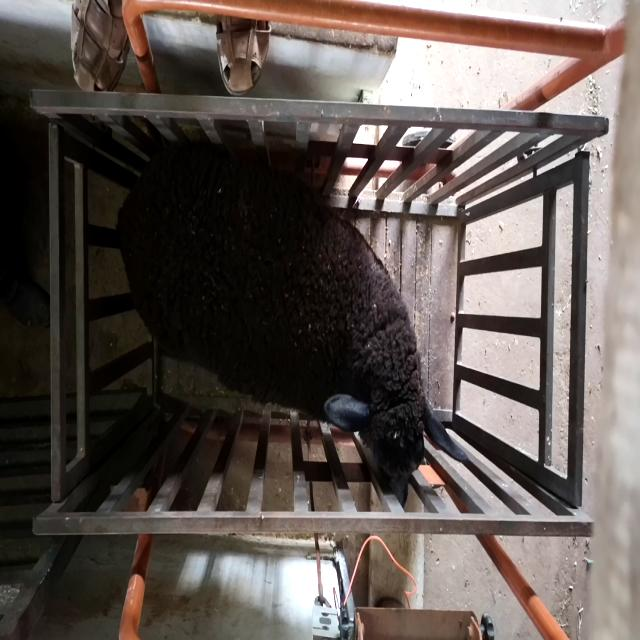sheep: (116, 142, 468, 509)
